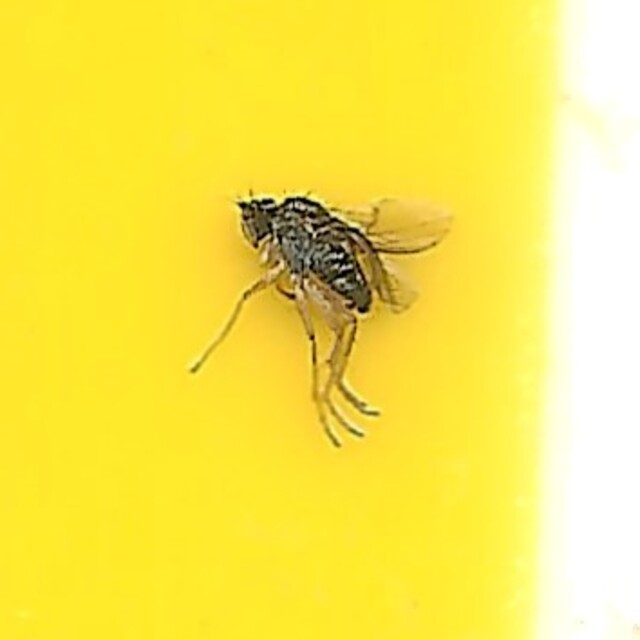Brachycera: (181, 182, 459, 458)
